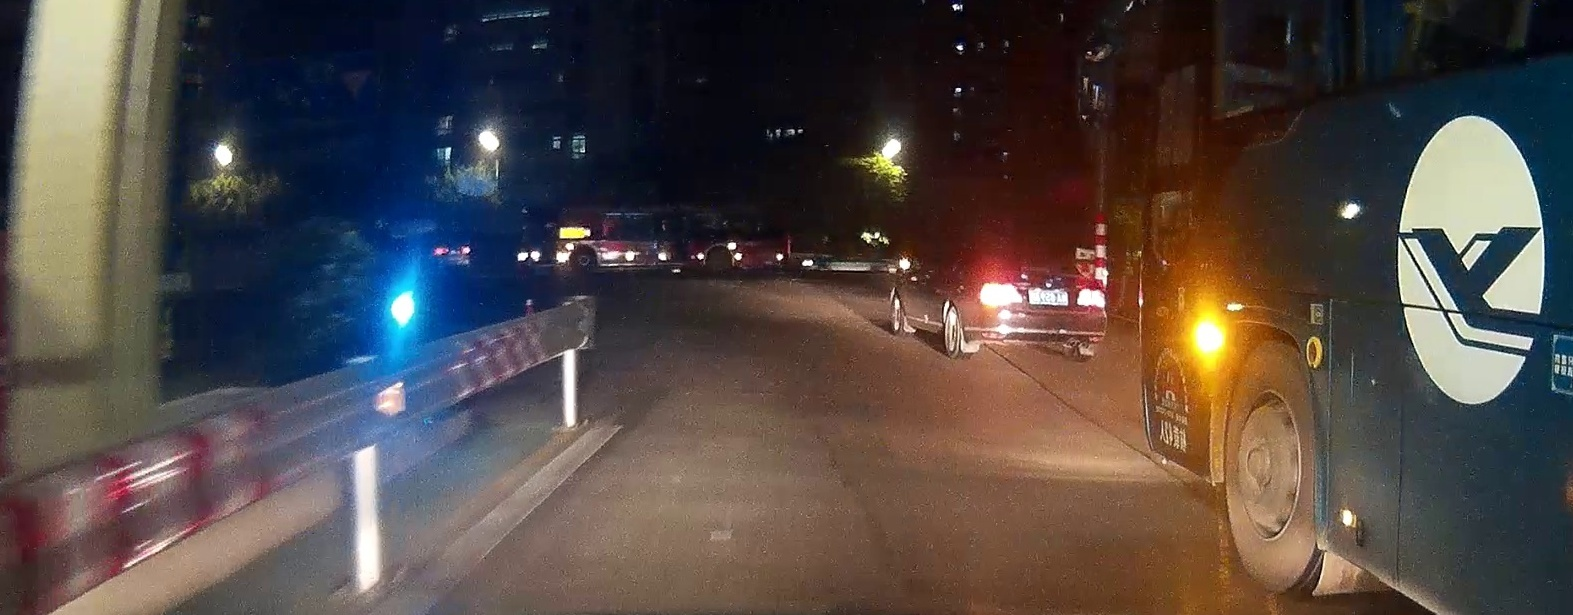L_light: (978, 281, 1023, 306)
R_light: (1076, 288, 1106, 308)
T_light: (1021, 263, 1053, 273)
night-left: (977, 238, 1107, 362)
